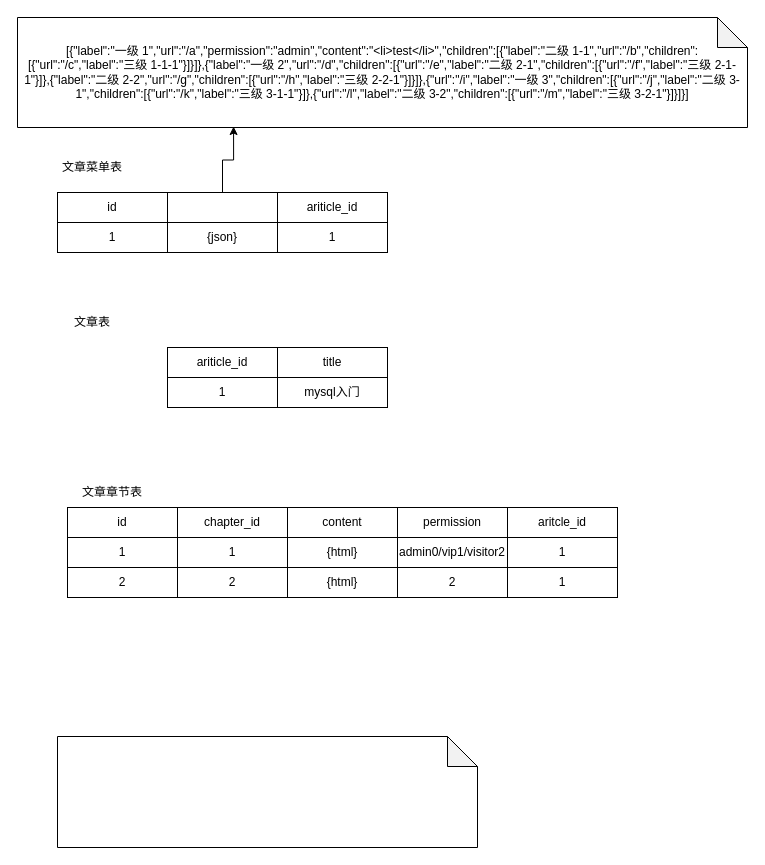
Image size: 765x865. Some labels were removed from this diagram. The shapes that lost their labels are listed below. From the top down, each one's box as (x1, y1, x2, y2) in pixels, then its label:
(166, 192, 278, 222): data
(56, 736, 478, 848): create table( )
